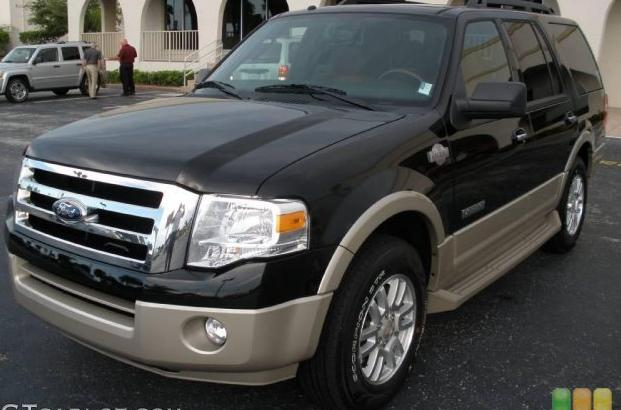front_view: (11, 155, 315, 371)
headlight: (186, 184, 317, 267)
side_glass: (437, 29, 575, 109)
